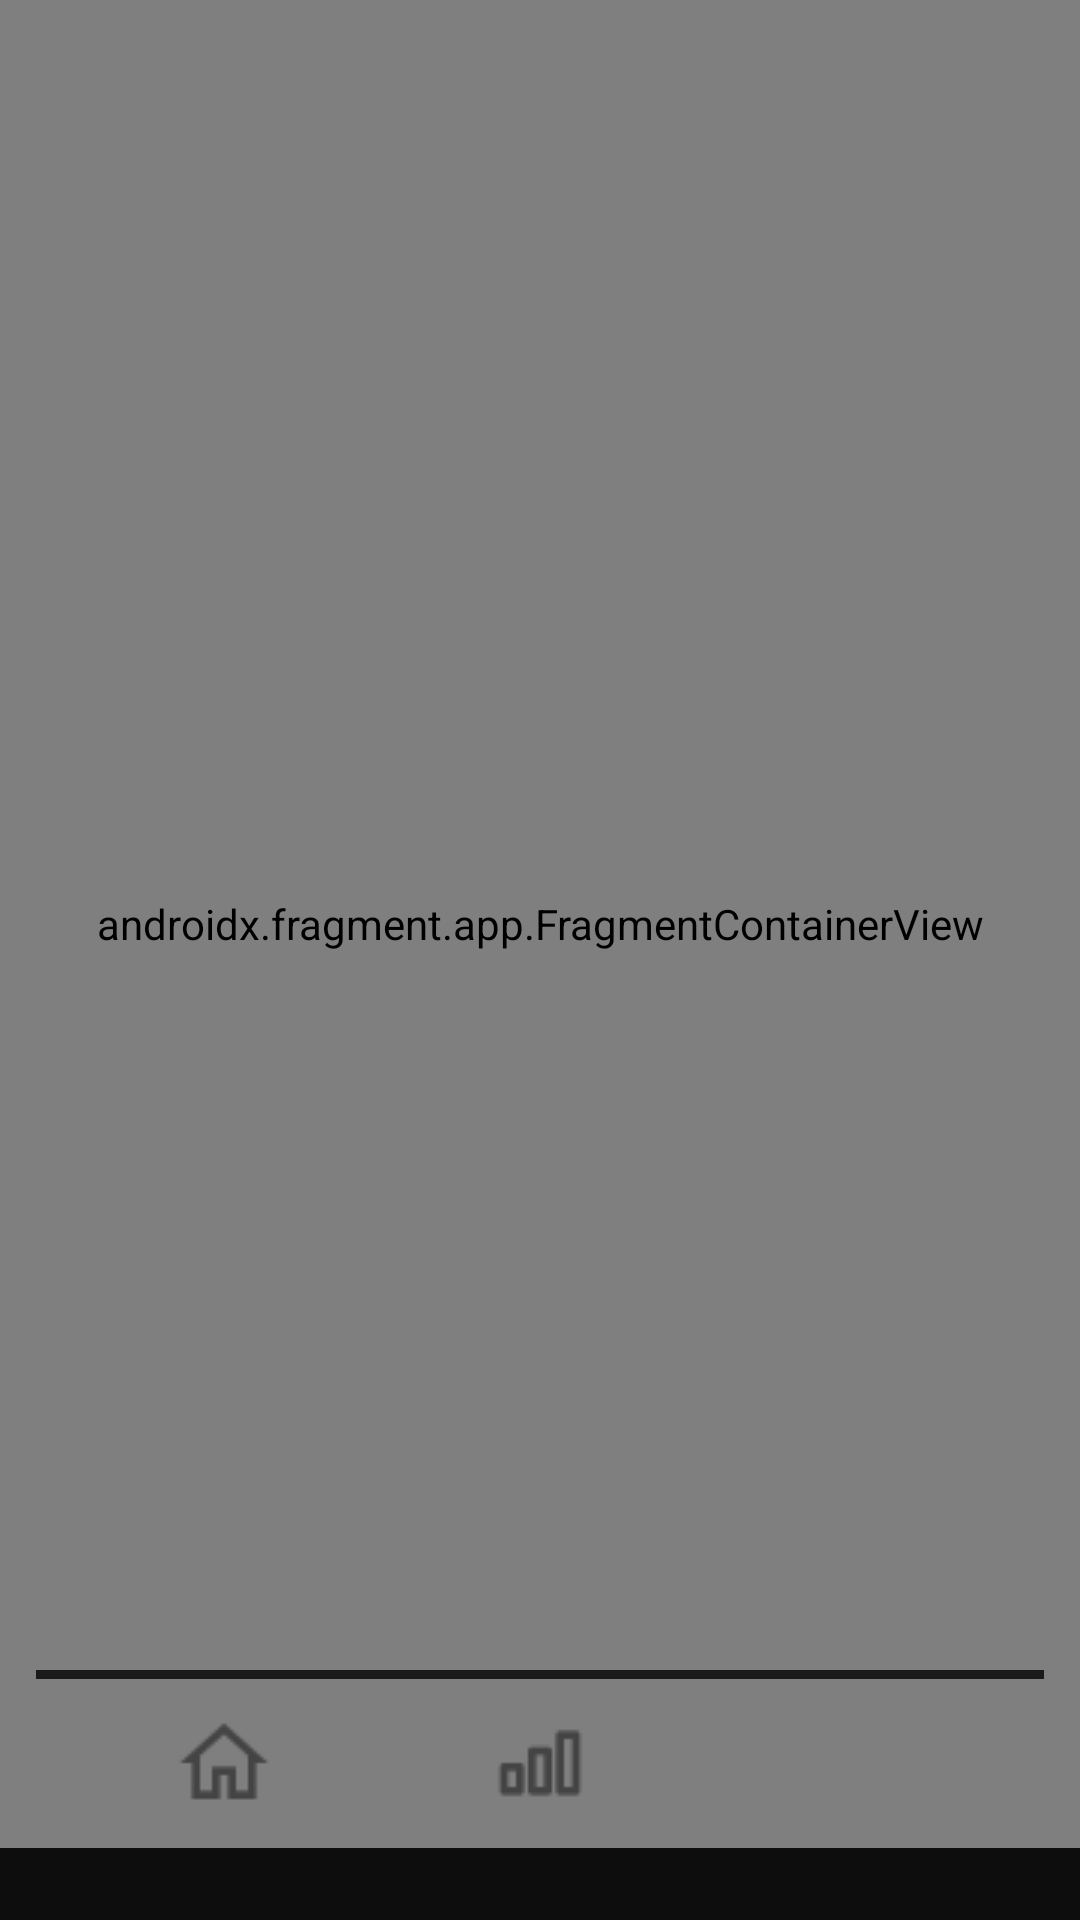

Screen size 1080x1920. Icon name, then its center in pixels as point (x, y):
home: point (224, 1761)
statistics: point (540, 1763)
